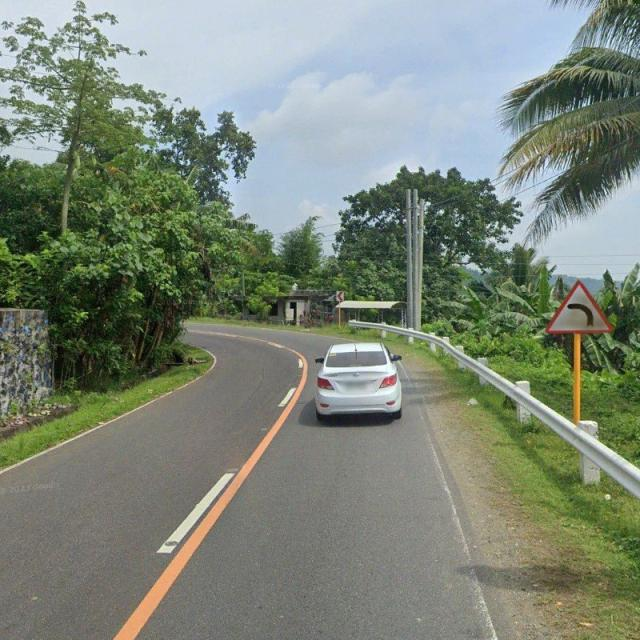warn_left_curve: (546, 278, 612, 333)
